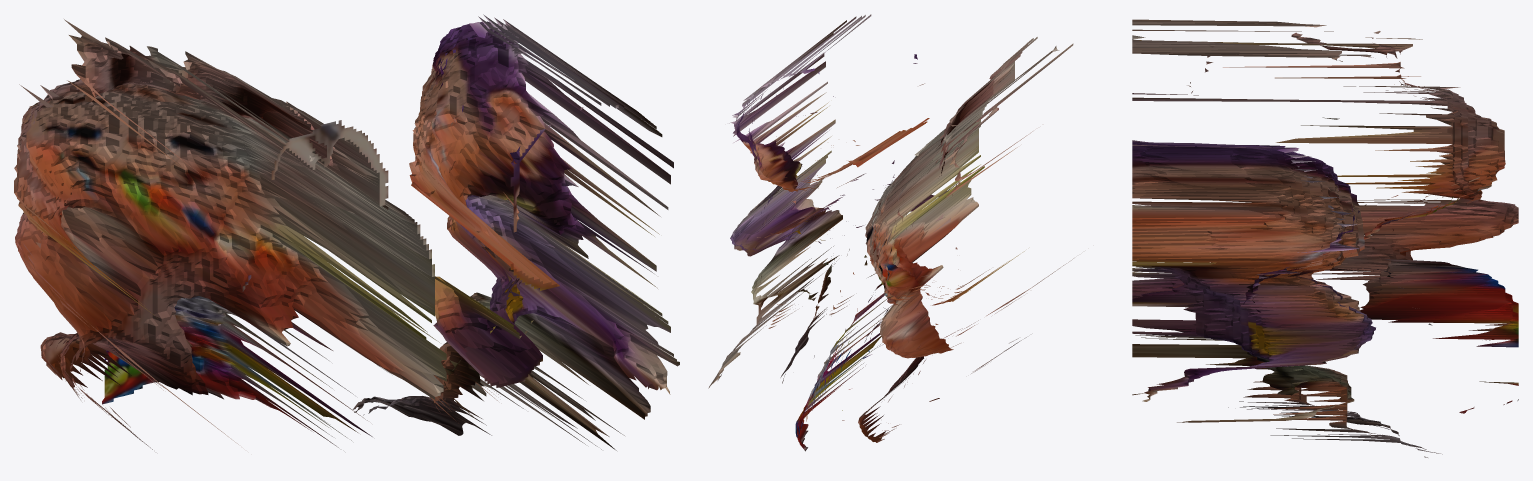
File: frame_00409.glb
3 renders of one model, left to right at view 1: azimuth 30°, elevation 25°; view 2: azimuth 150°, elevation 25°; view 3: azimuth 270°, elevation 25°, orthographic. The views are drawn at different scales.
Parts seen in each view (by area): view 1: geometry_0; view 2: geometry_0; view 3: geometry_0.
Part boxes in pixels (x1,y1,x2,y2): geometry_0: (14,14,679,450); geometry_0: (708,14,1073,451); geometry_0: (1132,19,1518,457).
Size of the model in its own units: 0.1506 by 0.1596 by 0.16.
Materials: 1 (1 with a texture image).
